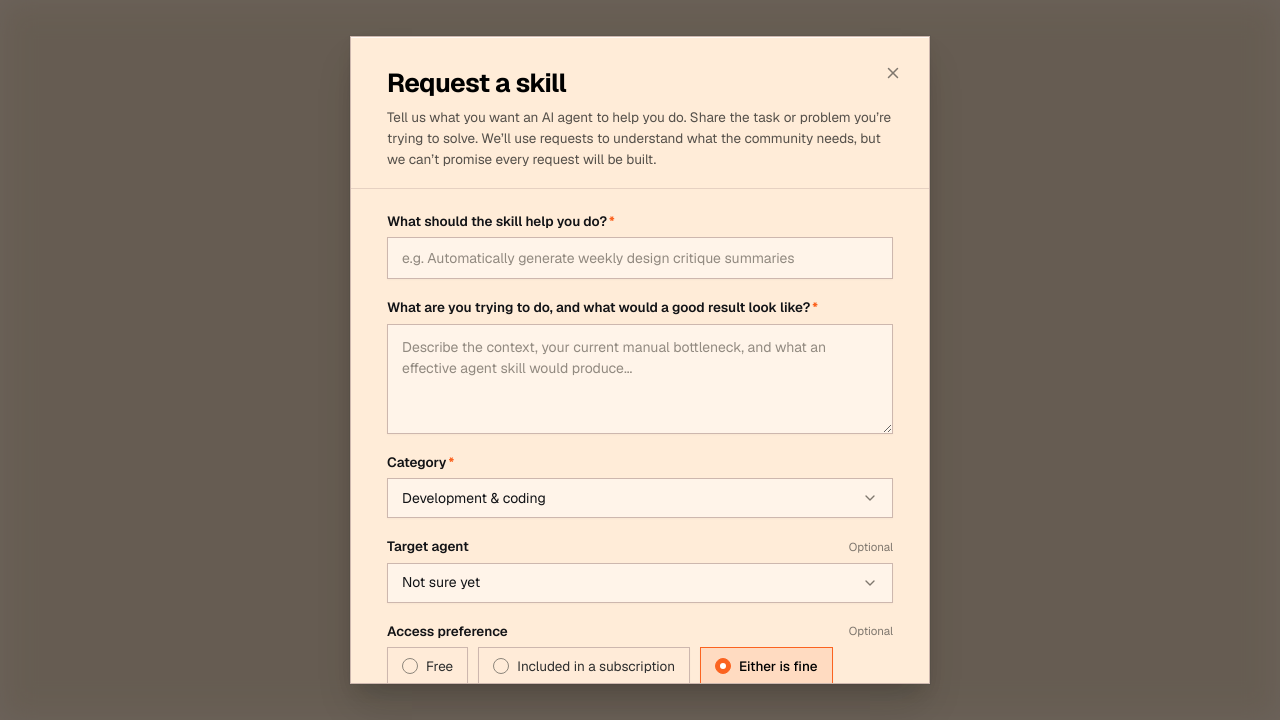
RequestSkillModal › submits successfully and presents the confirmation state with Request ID
The width and height of the screenshot is (1280, 720).
Type "Automated PR reviews for accessibility" into the field labelled "What should the skill help you do?*".
click(640, 258); type("Automated PR reviews for accessibility")  # box [387,237,893,279]
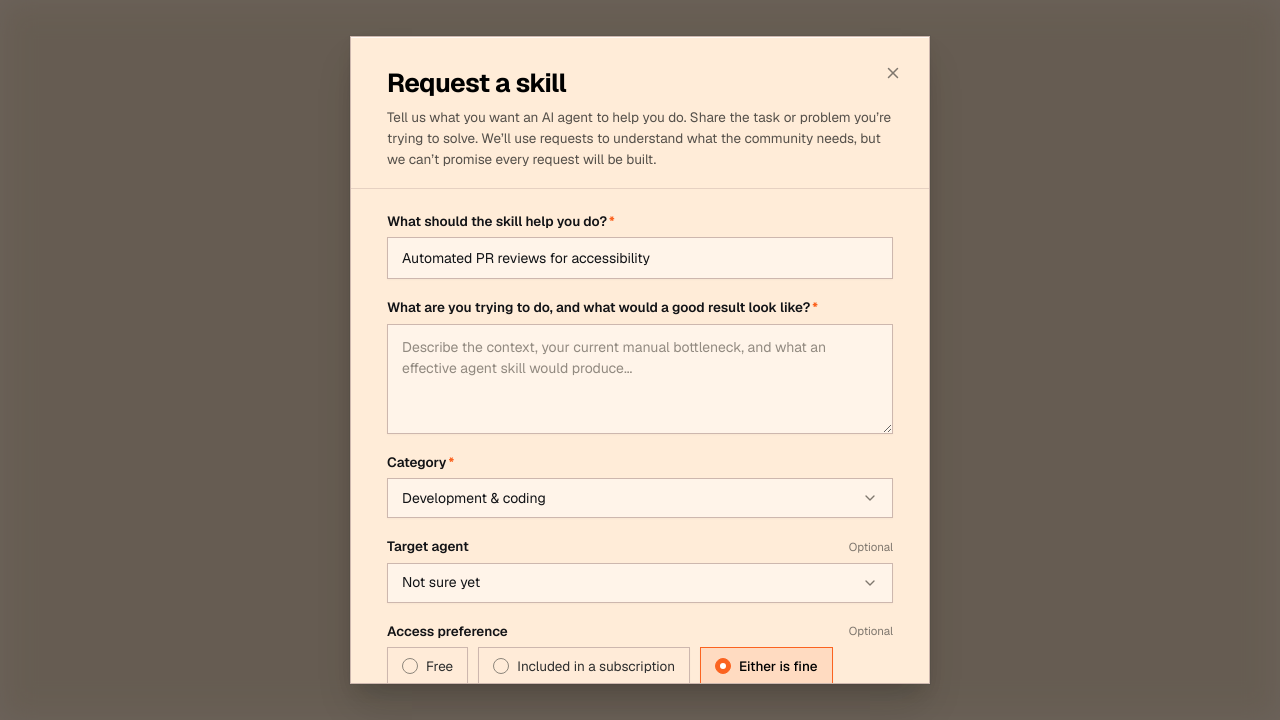
Replace the text in the text box labelled "What are you trying to do, and what would a good result look like?" with "I want an agent to scan PRs for missing aria labels and color contrast issues, and post formatted suggestions directly into the GitHub PR." at [640, 379], box [387,324,893,434]
(page scrolled)
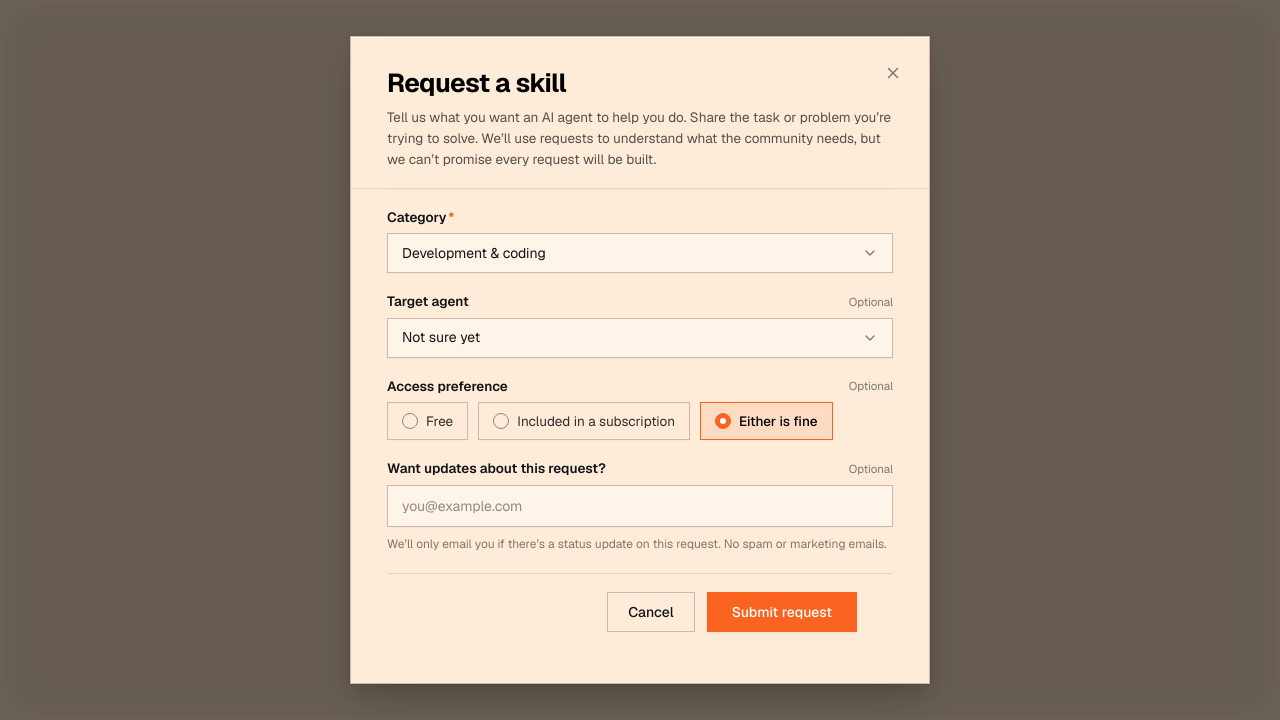
Type "alex@example.com" into the field labelled "Want updates about this request?".
click(640, 506); type("alex@example.com")  # box [387,485,893,527]
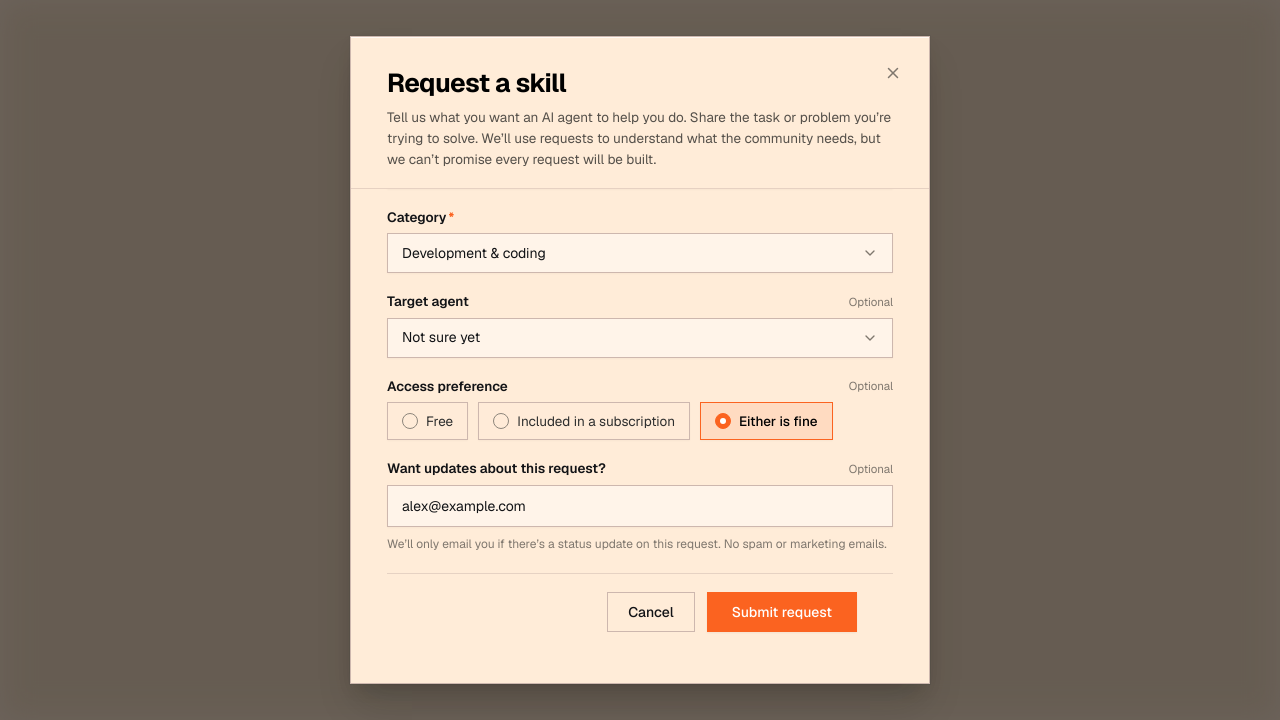
Click the button with test id "submit-skill-request-btn".
click(782, 612)  # box [707,592,857,632]
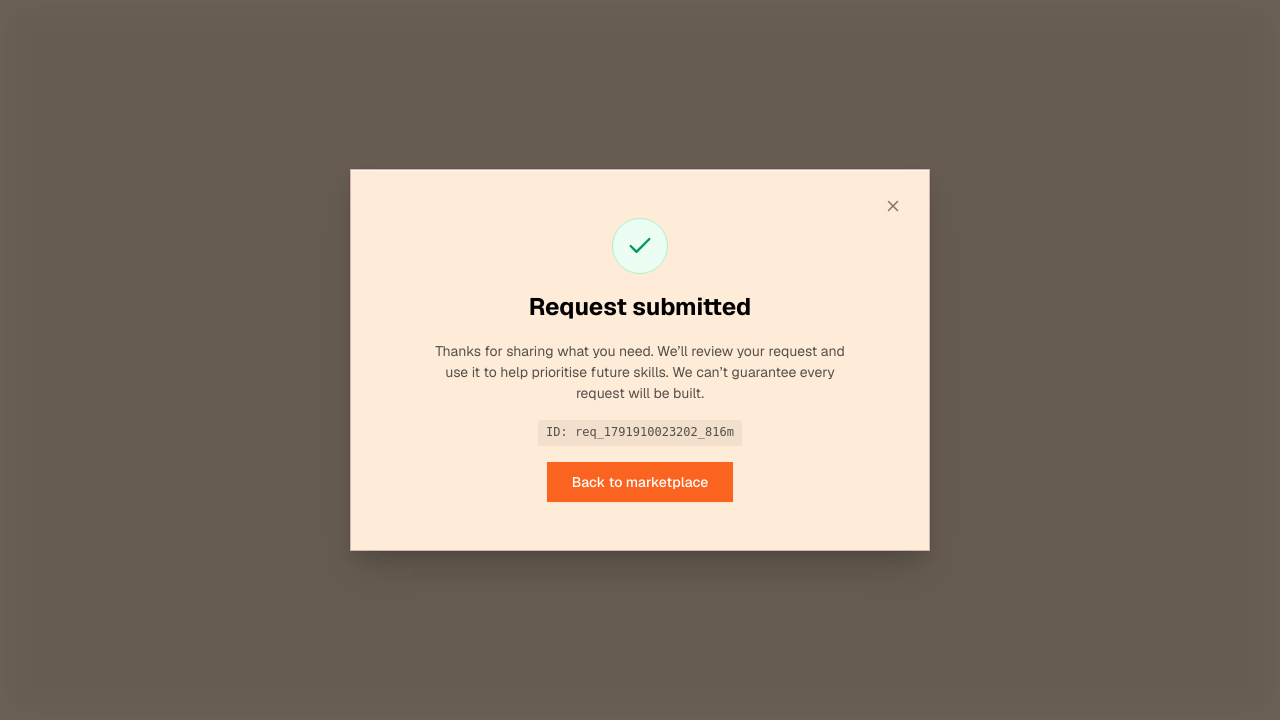
Expected: the heading "Request submitted" is shown, [529,290,751,325]
Expected: the text "Thanks for sharing what you need. We’ll review your request" is shown, [435,342,845,402]
Expected: the text "ID: req_1791910023202_816m" is shown, [538,420,742,446]
